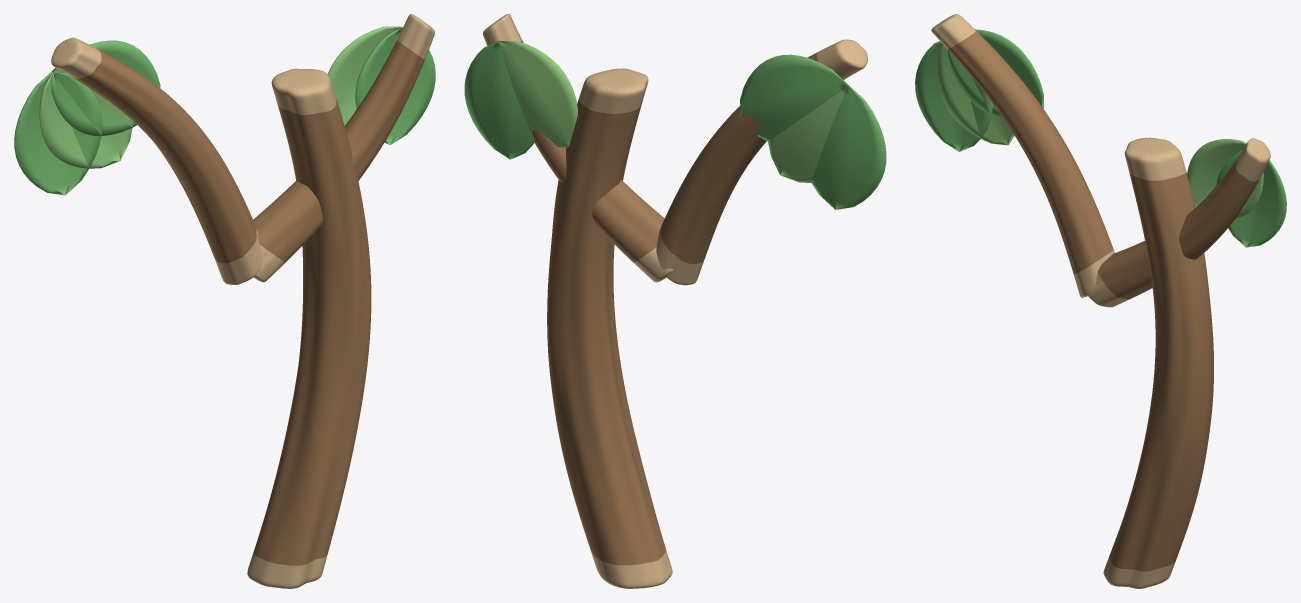
Rendered from RamaColeccionable.glb.
3 renders of one model, left to right at view 1: azimuth 30°, elevation 25°; view 2: azimuth 150°, elevation 25°; view 3: azimuth 330°, elevation 25°, orthographic. The views are drawn at different scales.
Visible parts, largest first — view 1: Rama_Stem, Rama_ProngL, Rama_ProngR, Rama_Leaf_0.40_0, Rama_Leaf_0.40_1, Rama_Leaf_-0.23_0, Rama_Leaf_0.40_2, Rama_Leaf_-0.23_1; view 2: Rama_Stem, Rama_ProngL, Rama_Leaf_0.40_0, Rama_ProngR, Rama_Leaf_0.40_2, Rama_Leaf_-0.23_1, Rama_Leaf_-0.23_0, Rama_Leaf_0.40_1; view 3: Rama_Stem, Rama_ProngL, Rama_ProngR, Rama_Leaf_0.40_0, Rama_Leaf_-0.23_0, Rama_Leaf_-0.23_1, Rama_Leaf_0.40_2, Rama_Leaf_0.40_1.
Boxes of the visible parts, x1,y1,x2,y2 form: Rama_Stem: (247, 68, 371, 588); Rama_ProngL: (51, 37, 262, 284); Rama_ProngR: (253, 14, 434, 282); Rama_Leaf_0.40_0: (14, 71, 102, 195); Rama_Leaf_0.40_1: (39, 69, 132, 168); Rama_Leaf_-0.23_0: (355, 27, 435, 144); Rama_Leaf_0.40_2: (51, 40, 160, 135); Rama_Leaf_-0.23_1: (327, 26, 401, 125); Rama_Stem: (547, 68, 672, 588); Rama_ProngL: (656, 39, 867, 285); Rama_Leaf_0.40_0: (811, 86, 886, 209); Rama_ProngR: (483, 14, 673, 282); Rama_Leaf_0.40_2: (740, 54, 848, 141); Rama_Leaf_-0.23_1: (498, 41, 577, 147); Rama_Leaf_-0.23_0: (464, 41, 534, 159); Rama_Leaf_0.40_1: (768, 86, 847, 182); Rama_Stem: (1103, 137, 1213, 588); Rama_ProngL: (931, 14, 1114, 297); Rama_ProngR: (1087, 138, 1270, 307); Rama_Leaf_0.40_0: (915, 41, 992, 151); Rama_Leaf_-0.23_0: (1216, 150, 1286, 247); Rama_Leaf_-0.23_1: (1187, 139, 1263, 218); Rama_Leaf_0.40_2: (948, 29, 1043, 119); Rama_Leaf_0.40_1: (937, 45, 1014, 145).
Size of the model in its own units: 0.7592 by 1.01 by 0.1216.
